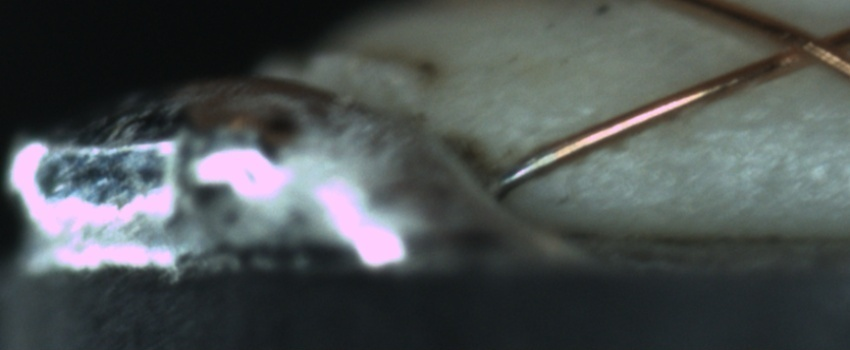CL: (759, 13, 847, 77)
DL: (668, 99, 850, 156)
TS: (486, 147, 550, 195)
